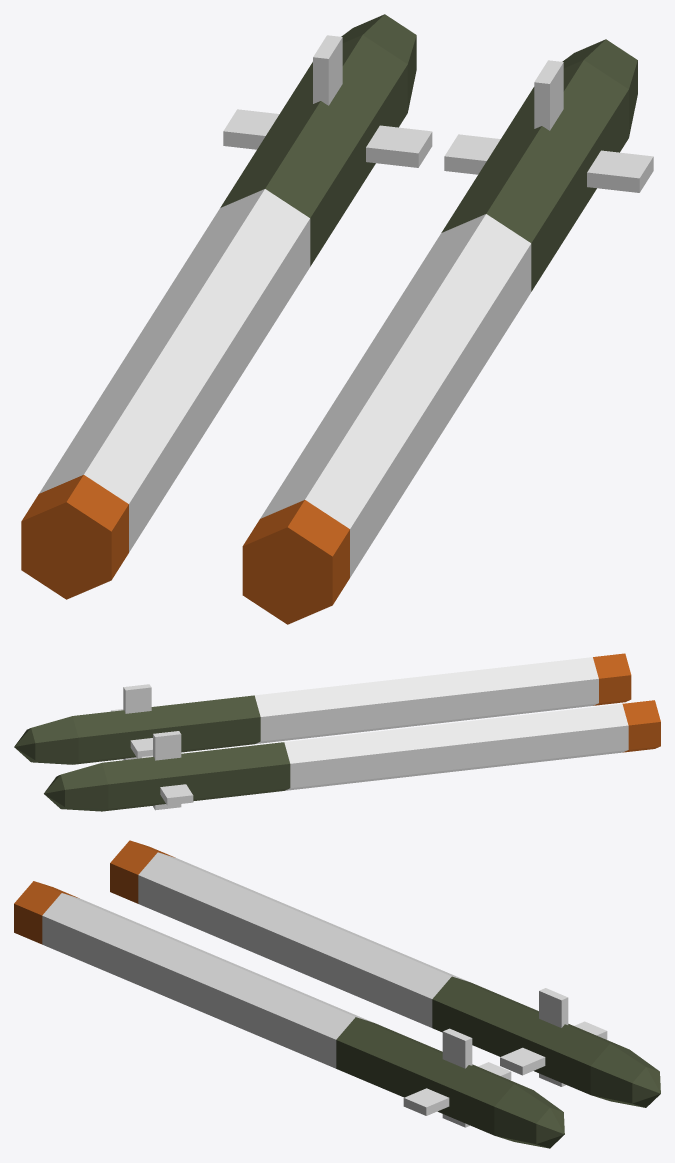
The model's file is ce_ammo2_apkws_heat_b.obj.
The picture shows the model from 3 angles, top to bottom: view 1: azimuth 30°, elevation 25°; view 2: azimuth 150°, elevation 25°; view 3: azimuth 270°, elevation 25°; orthographic projection. The views are drawn at different scales.
Visible parts, largest first — view 1: ce_ammo2_apkws_heat_b_1, ce_ammo2_apkws_heat_b_8, ce_ammo2_apkws_heat_b_9, ce_ammo2_apkws_heat_b_2, ce_ammo2_apkws_heat_b_7, ce_ammo2_apkws_heat_b_0, ce_ammo2_apkws_heat_b_5, ce_ammo2_apkws_heat_b_12, ce_ammo2_apkws_heat_b_3, ce_ammo2_apkws_heat_b_10, ce_ammo2_apkws_heat_b_6, ce_ammo2_apkws_heat_b_13; view 2: ce_ammo2_apkws_heat_b_8, ce_ammo2_apkws_heat_b_1, ce_ammo2_apkws_heat_b_2, ce_ammo2_apkws_heat_b_9, ce_ammo2_apkws_heat_b_3, ce_ammo2_apkws_heat_b_10, ce_ammo2_apkws_heat_b_7, ce_ammo2_apkws_heat_b_0, ce_ammo2_apkws_heat_b_6, ce_ammo2_apkws_heat_b_13, ce_ammo2_apkws_heat_b_5, ce_ammo2_apkws_heat_b_11 (+2 smaller); view 3: ce_ammo2_apkws_heat_b_8, ce_ammo2_apkws_heat_b_1, ce_ammo2_apkws_heat_b_9, ce_ammo2_apkws_heat_b_2, ce_ammo2_apkws_heat_b_3, ce_ammo2_apkws_heat_b_10, ce_ammo2_apkws_heat_b_0, ce_ammo2_apkws_heat_b_7, ce_ammo2_apkws_heat_b_12, ce_ammo2_apkws_heat_b_5, ce_ammo2_apkws_heat_b_13, ce_ammo2_apkws_heat_b_6 (+2 smaller).
Part boxes in pixels (box(x1,y1,x2,y2)): ce_ammo2_apkws_heat_b_1: box(39, 189, 310, 552); ce_ammo2_apkws_heat_b_8: box(260, 214, 531, 577); ce_ammo2_apkws_heat_b_9: box(441, 60, 628, 291); ce_ammo2_apkws_heat_b_2: box(220, 35, 407, 266); ce_ammo2_apkws_heat_b_7: box(242, 500, 349, 624); ce_ammo2_apkws_heat_b_0: box(21, 475, 128, 599); ce_ammo2_apkws_heat_b_5: box(223, 109, 432, 167); ce_ammo2_apkws_heat_b_12: box(444, 134, 653, 192); ce_ammo2_apkws_heat_b_3: box(341, 14, 416, 112); ce_ammo2_apkws_heat_b_10: box(562, 39, 637, 136); ce_ammo2_apkws_heat_b_6: box(313, 35, 342, 105); ce_ammo2_apkws_heat_b_13: box(534, 60, 563, 130); ce_ammo2_apkws_heat_b_8: box(254, 657, 598, 743); ce_ammo2_apkws_heat_b_1: box(284, 704, 628, 790); ce_ammo2_apkws_heat_b_2: box(102, 742, 290, 811); ce_ammo2_apkws_heat_b_9: box(72, 695, 260, 764); ce_ammo2_apkws_heat_b_3: box(61, 763, 108, 811); ce_ammo2_apkws_heat_b_10: box(31, 716, 78, 764); ce_ammo2_apkws_heat_b_7: box(593, 653, 631, 705); ce_ammo2_apkws_heat_b_0: box(622, 700, 660, 752); ce_ammo2_apkws_heat_b_6: box(153, 731, 181, 810); ce_ammo2_apkws_heat_b_13: box(123, 684, 151, 760); ce_ammo2_apkws_heat_b_5: box(141, 755, 193, 805); ce_ammo2_apkws_heat_b_11: box(14, 728, 35, 762); ce_ammo2_apkws_heat_b_8: box(42, 893, 372, 1068); ce_ammo2_apkws_heat_b_1: box(138, 852, 468, 1027); ce_ammo2_apkws_heat_b_9: box(336, 1017, 531, 1135); ce_ammo2_apkws_heat_b_2: box(432, 976, 627, 1094); ce_ammo2_apkws_heat_b_3: box(590, 1043, 658, 1107); ce_ammo2_apkws_heat_b_10: box(494, 1084, 562, 1148); ce_ammo2_apkws_heat_b_0: box(110, 840, 175, 903); ce_ammo2_apkws_heat_b_7: box(14, 881, 79, 944); ce_ammo2_apkws_heat_b_12: box(403, 1062, 511, 1115); ce_ammo2_apkws_heat_b_5: box(500, 1021, 607, 1075); ce_ammo2_apkws_heat_b_13: box(442, 1028, 472, 1127); ce_ammo2_apkws_heat_b_6: box(539, 988, 568, 1086).
Bounding box in the file's own units: 0.8093 × 0.1198 × 0.8093.
